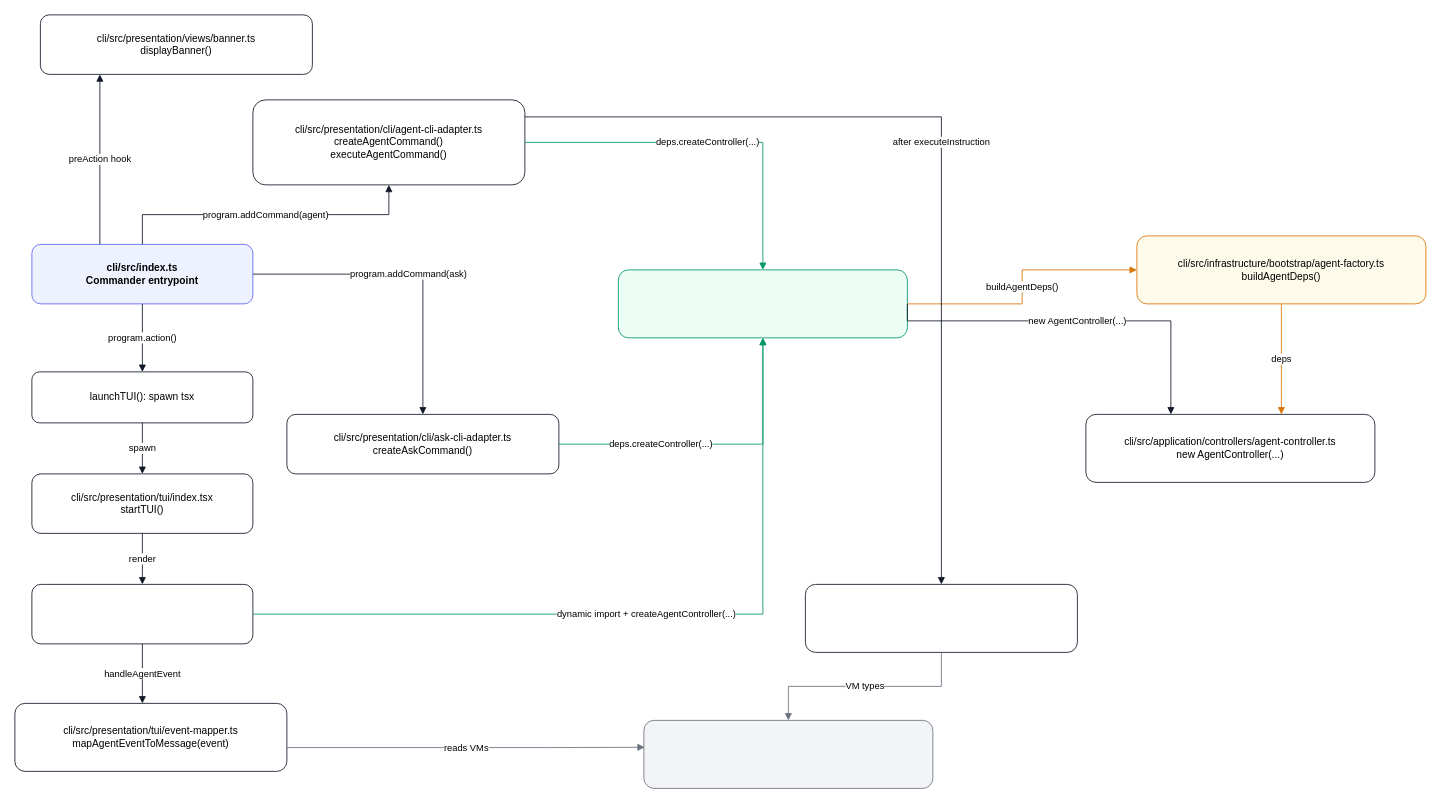
The diagram is 1441 pixels wide and 803 high, and some of its shapes have lost their labels. The shapes that lost their labels are listed below. From the top down, each one's centre as x and y in pixels, then its label:
At (762,303): "cli/src/composition/create-agent-controller.ts createAgentController()".
At (142,614): "cli/src/presentation/tui/App.tsx Ink UI".
At (941,618): "cli/src/presentation/views/context-status-bar.ts displayStatusBar(vm, config)".
At (788,754): "cli/src/presentation/view-models/index.ts (StatusBarVM, ScanResultVM, ...)".
